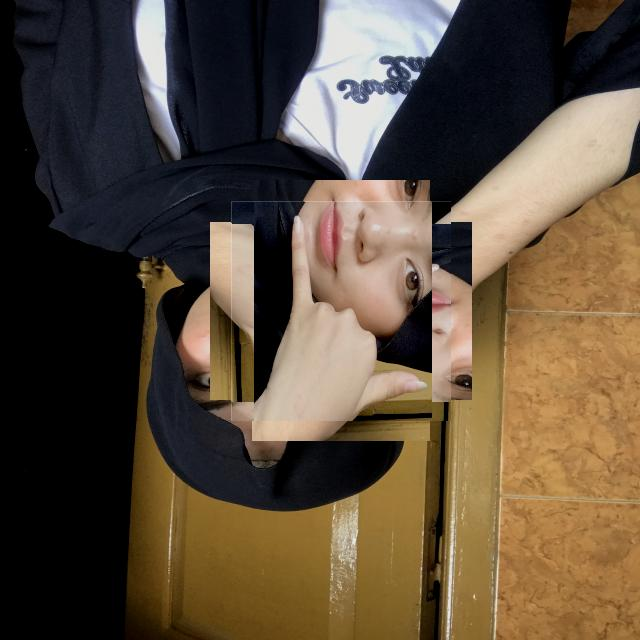telpon: (230, 200, 450, 420)
